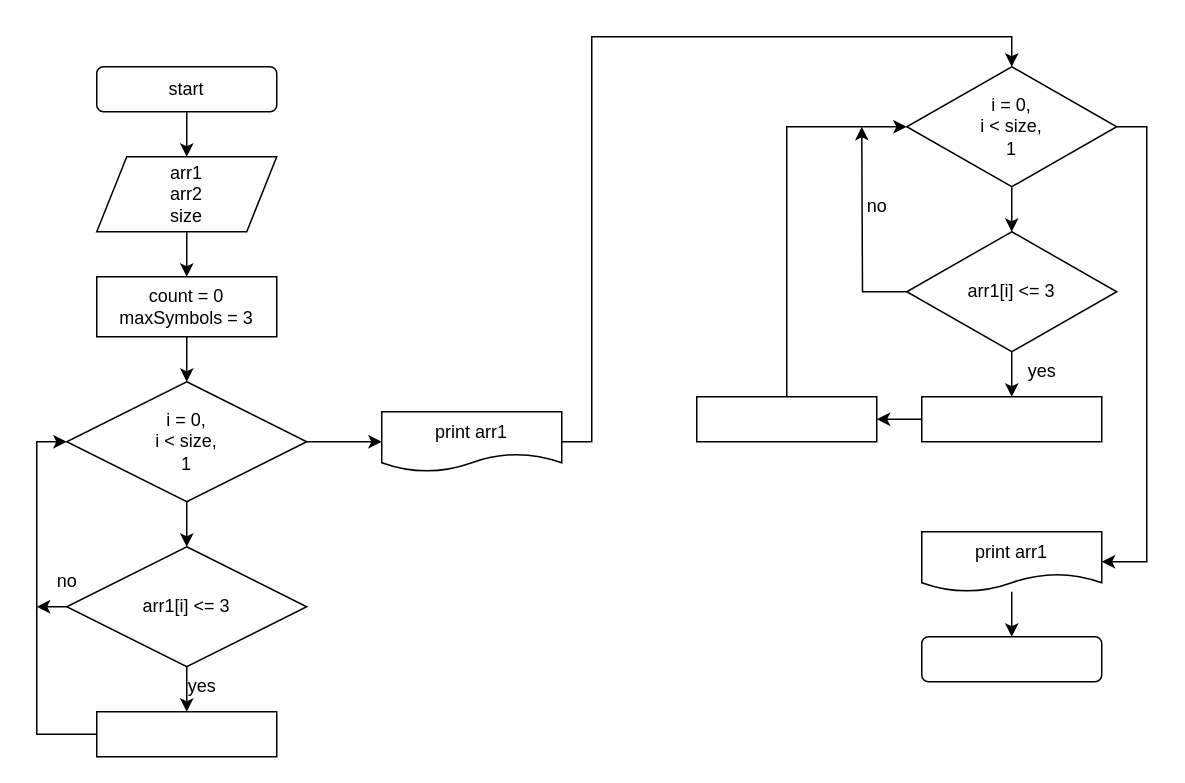
Image size: 1185x783. Some labels were removed from this diagram. The centre of each missing label's shape, as x and y in pixels:
"arr2[j] = arr1[i]" goes at [1011,418].
"count++" goes at [186,733].
"finish" goes at [1011,658].
"j++" goes at [786,418].
